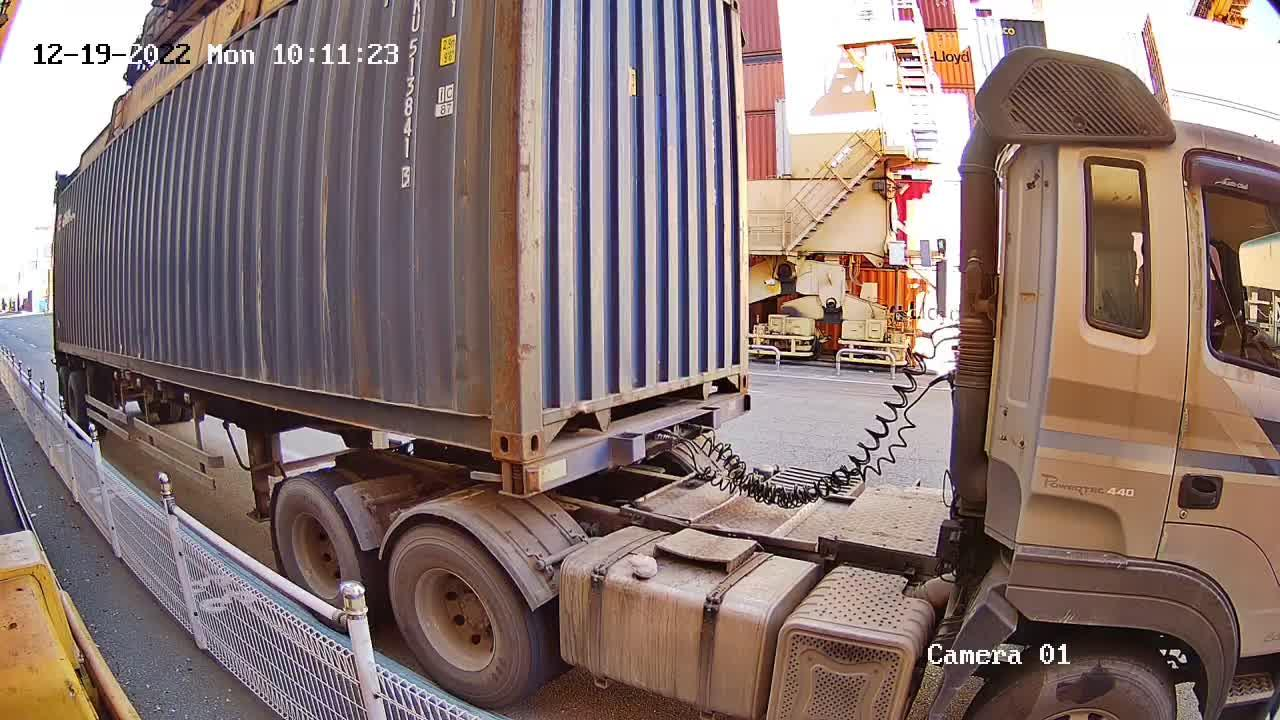Chassis: (525, 393, 748, 493)
Cone: (496, 464, 527, 494)
Hole_L: (521, 396, 571, 463)
Hole_R: (470, 401, 520, 466), (718, 347, 749, 394)
Tire: (392, 528, 532, 702), (273, 483, 357, 601)
